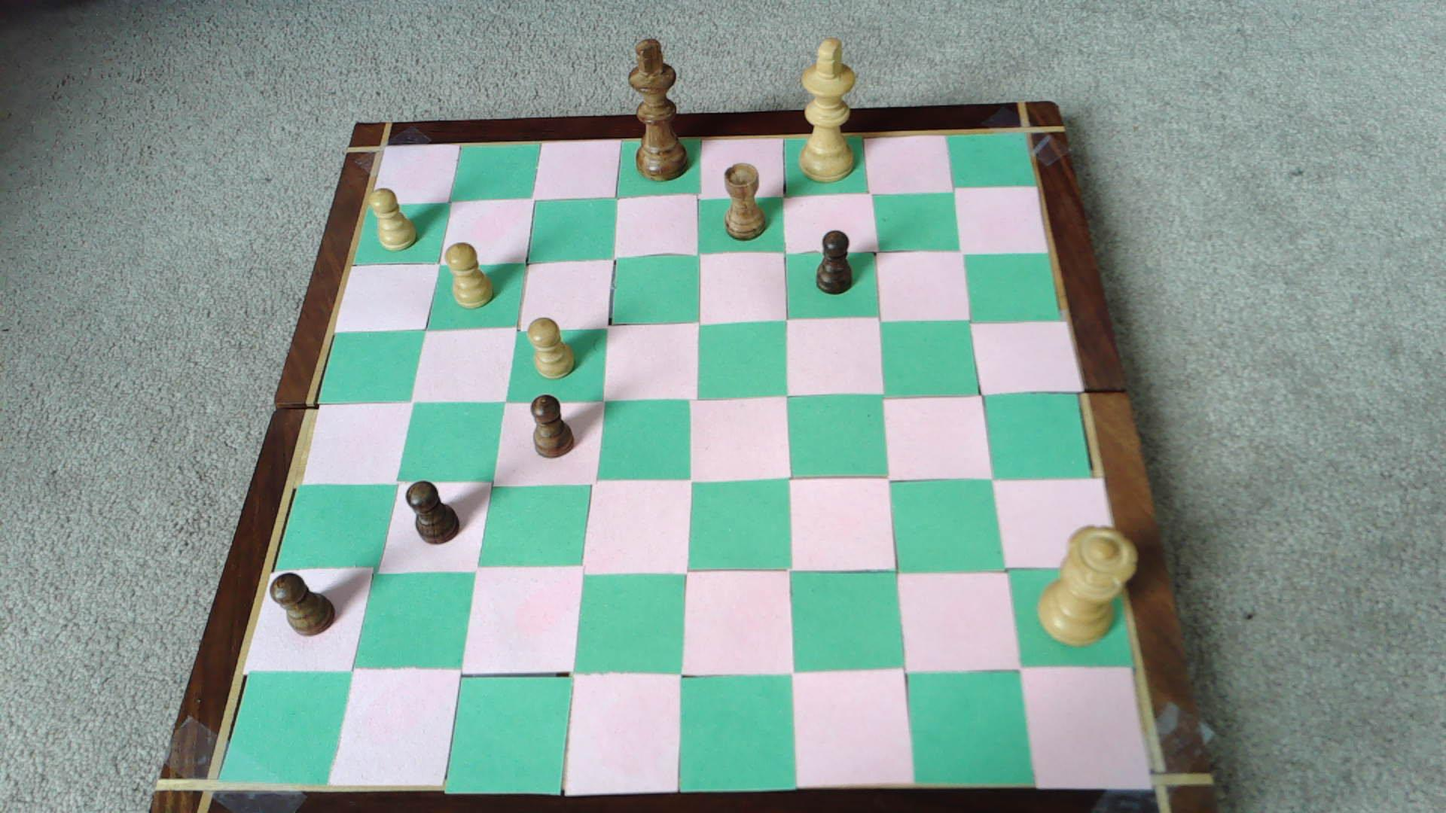dark_piece: (629, 39, 688, 181), (271, 572, 335, 635), (723, 163, 766, 239), (407, 481, 459, 543), (531, 394, 574, 457), (816, 230, 853, 293)
white_piece: (1039, 526, 1138, 641), (799, 37, 857, 181), (445, 242, 494, 307), (526, 318, 575, 378), (371, 189, 417, 250)
